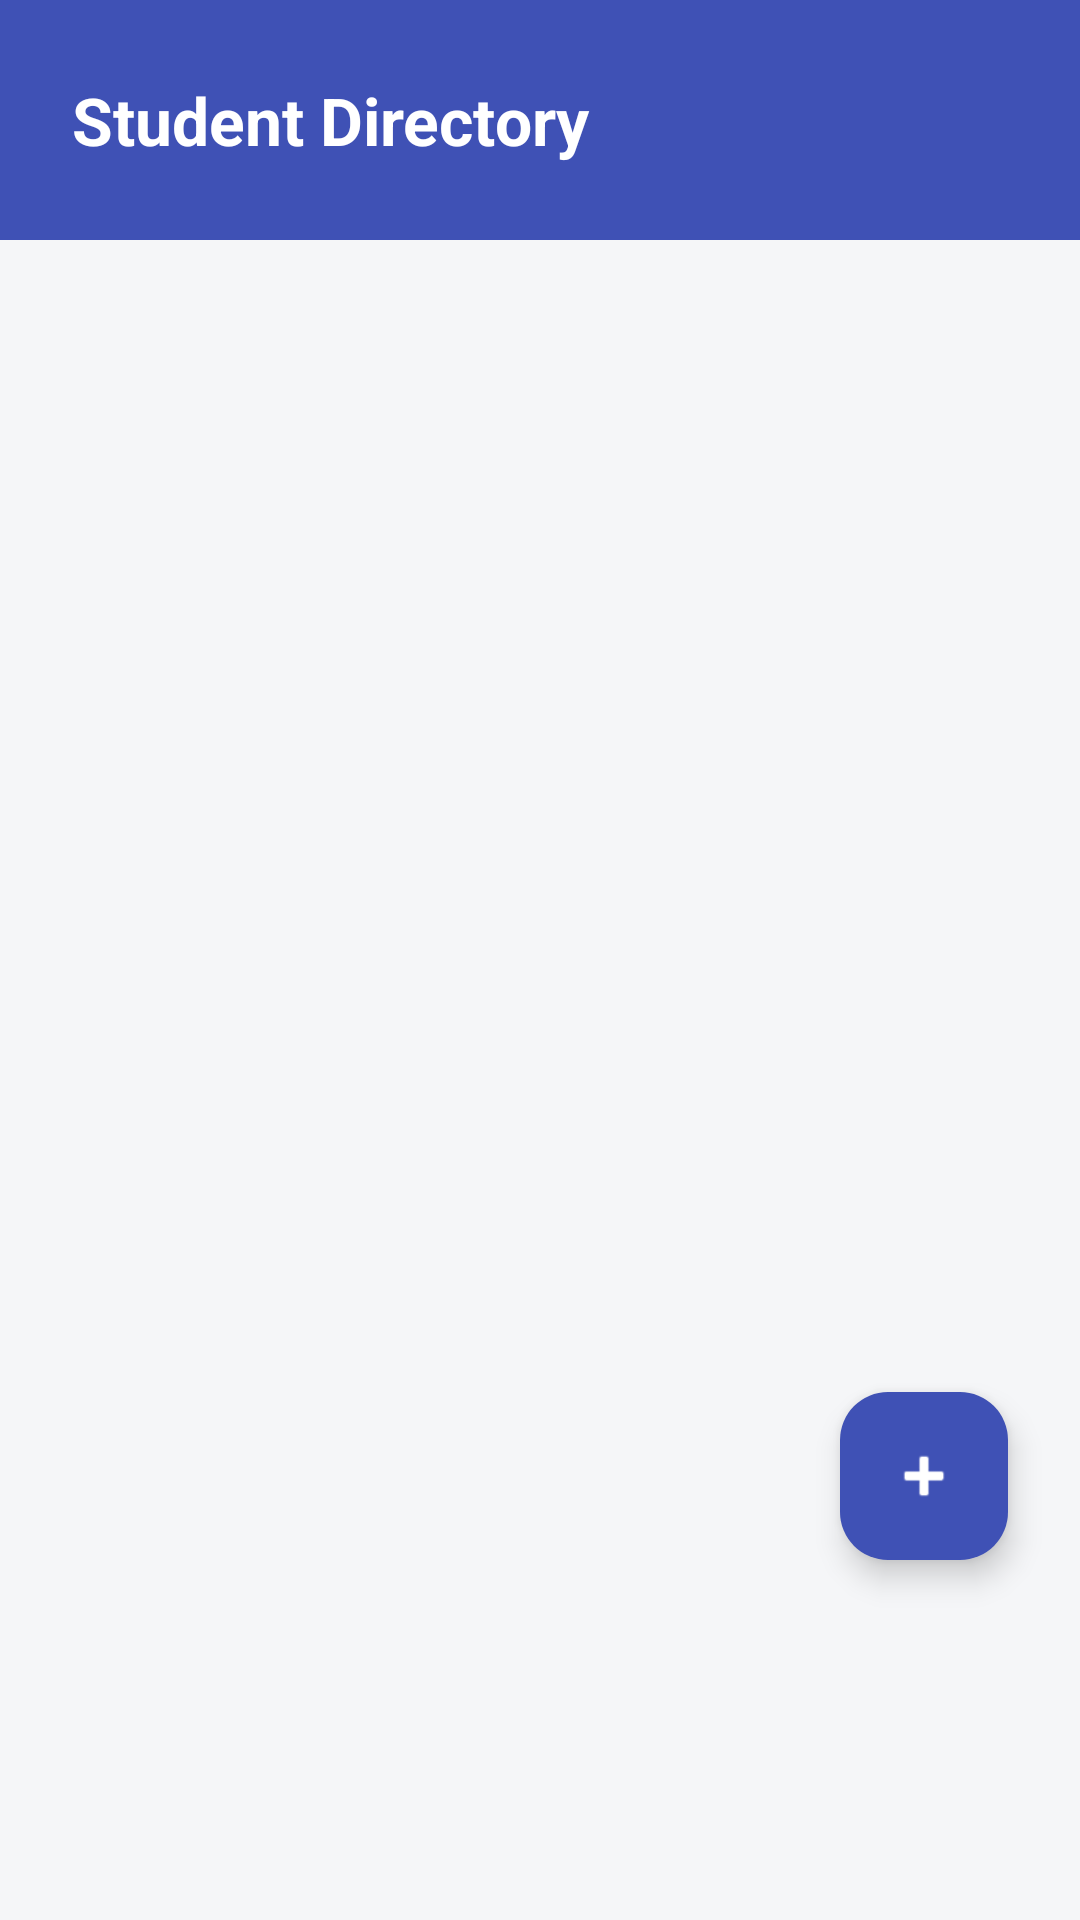

Where to tap for icons on this 1080w x 1920h app screen, as point (x, y):
add: point (924, 1476)
